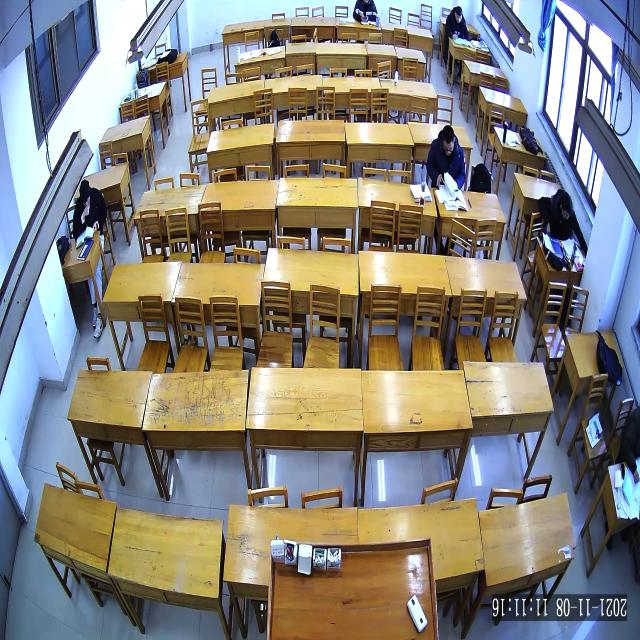down: (441, 123, 457, 157), (558, 190, 574, 222), (78, 180, 94, 210), (454, 5, 464, 25)
sit: (536, 187, 587, 250), (426, 122, 466, 190), (72, 178, 108, 240), (444, 4, 469, 38)
